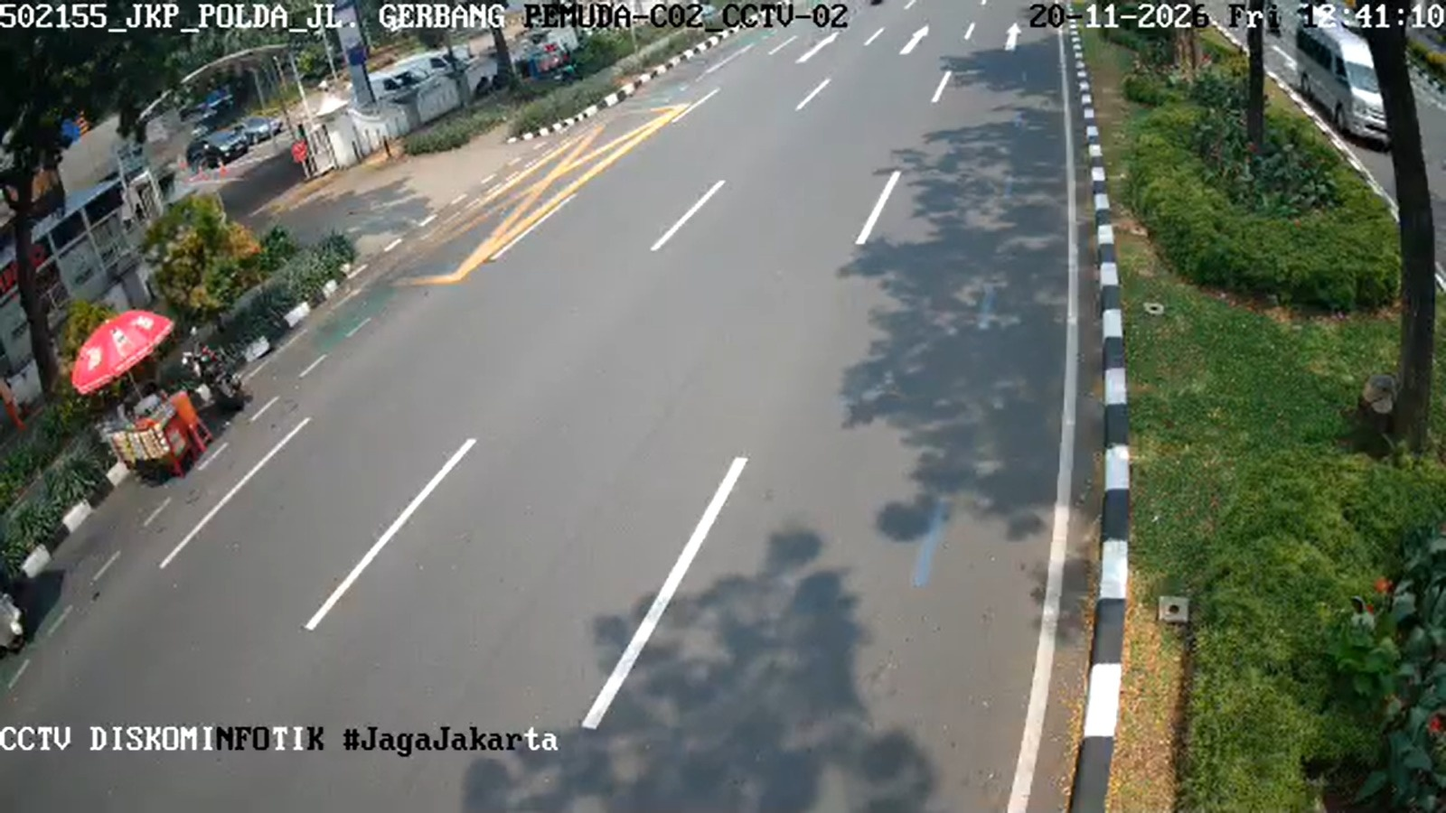Gerobak: (101, 390, 210, 484)
